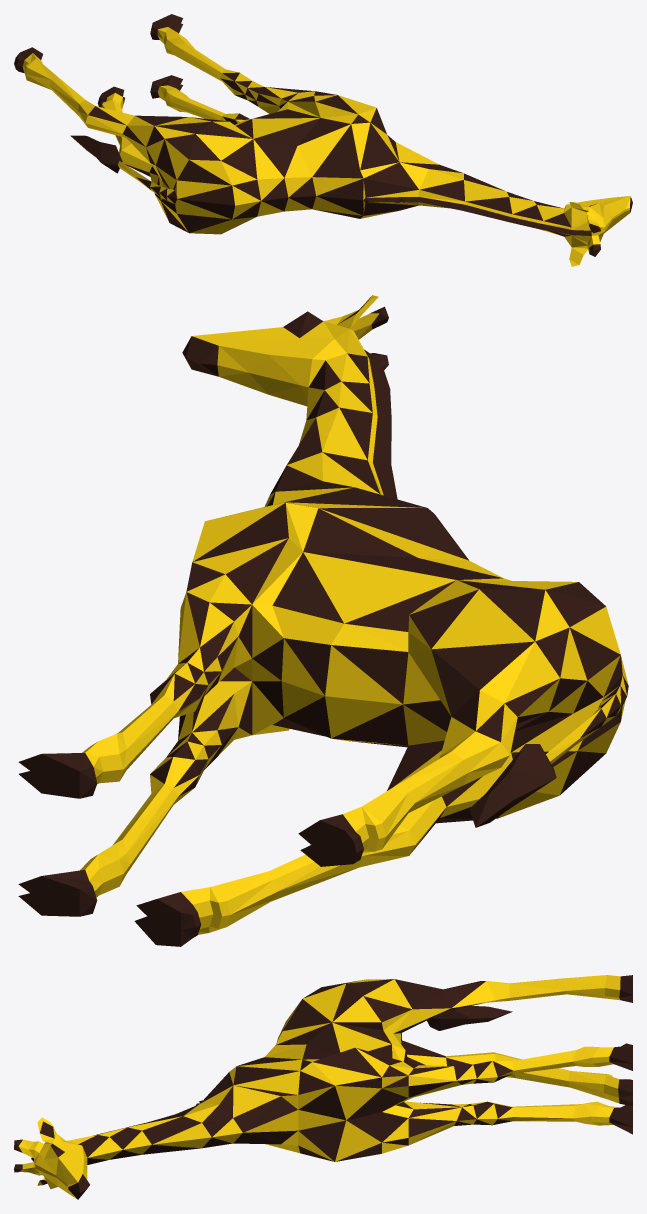
File: Giraffe_01(1).obj
The picture shows the model from 3 angles, top to bottom: view 1: azimuth 30°, elevation 25°; view 2: azimuth 150°, elevation 25°; view 3: azimuth 270°, elevation 25°; orthographic projection. The views are drawn at different scales.
Visible parts, largest first — view 1: pCube5; view 2: pCube5; view 3: pCube5.
Boxes of the visible parts, x1=… form: pCube5: x1=14, y1=14, x2=632, y2=266; pCube5: x1=18, y1=295, x2=628, y2=946; pCube5: x1=14, y1=975, x2=632, y2=1199.
Size of the model in its own units: 622 by 164 by 893.
